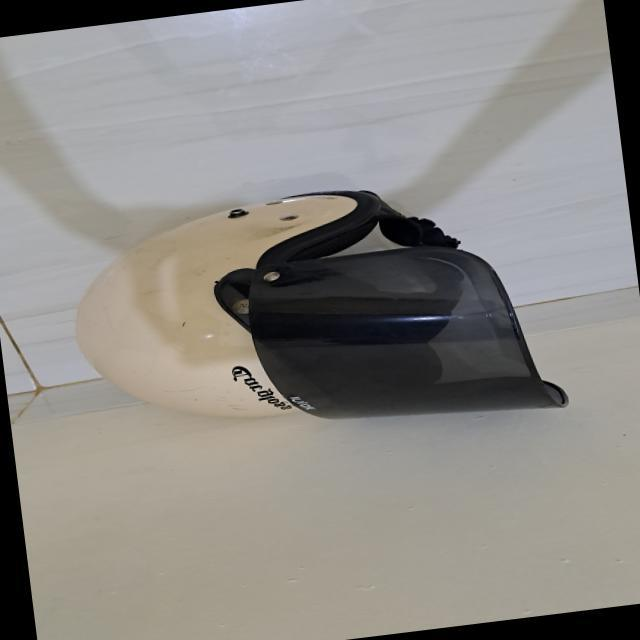Helm: (52, 156, 573, 478)
